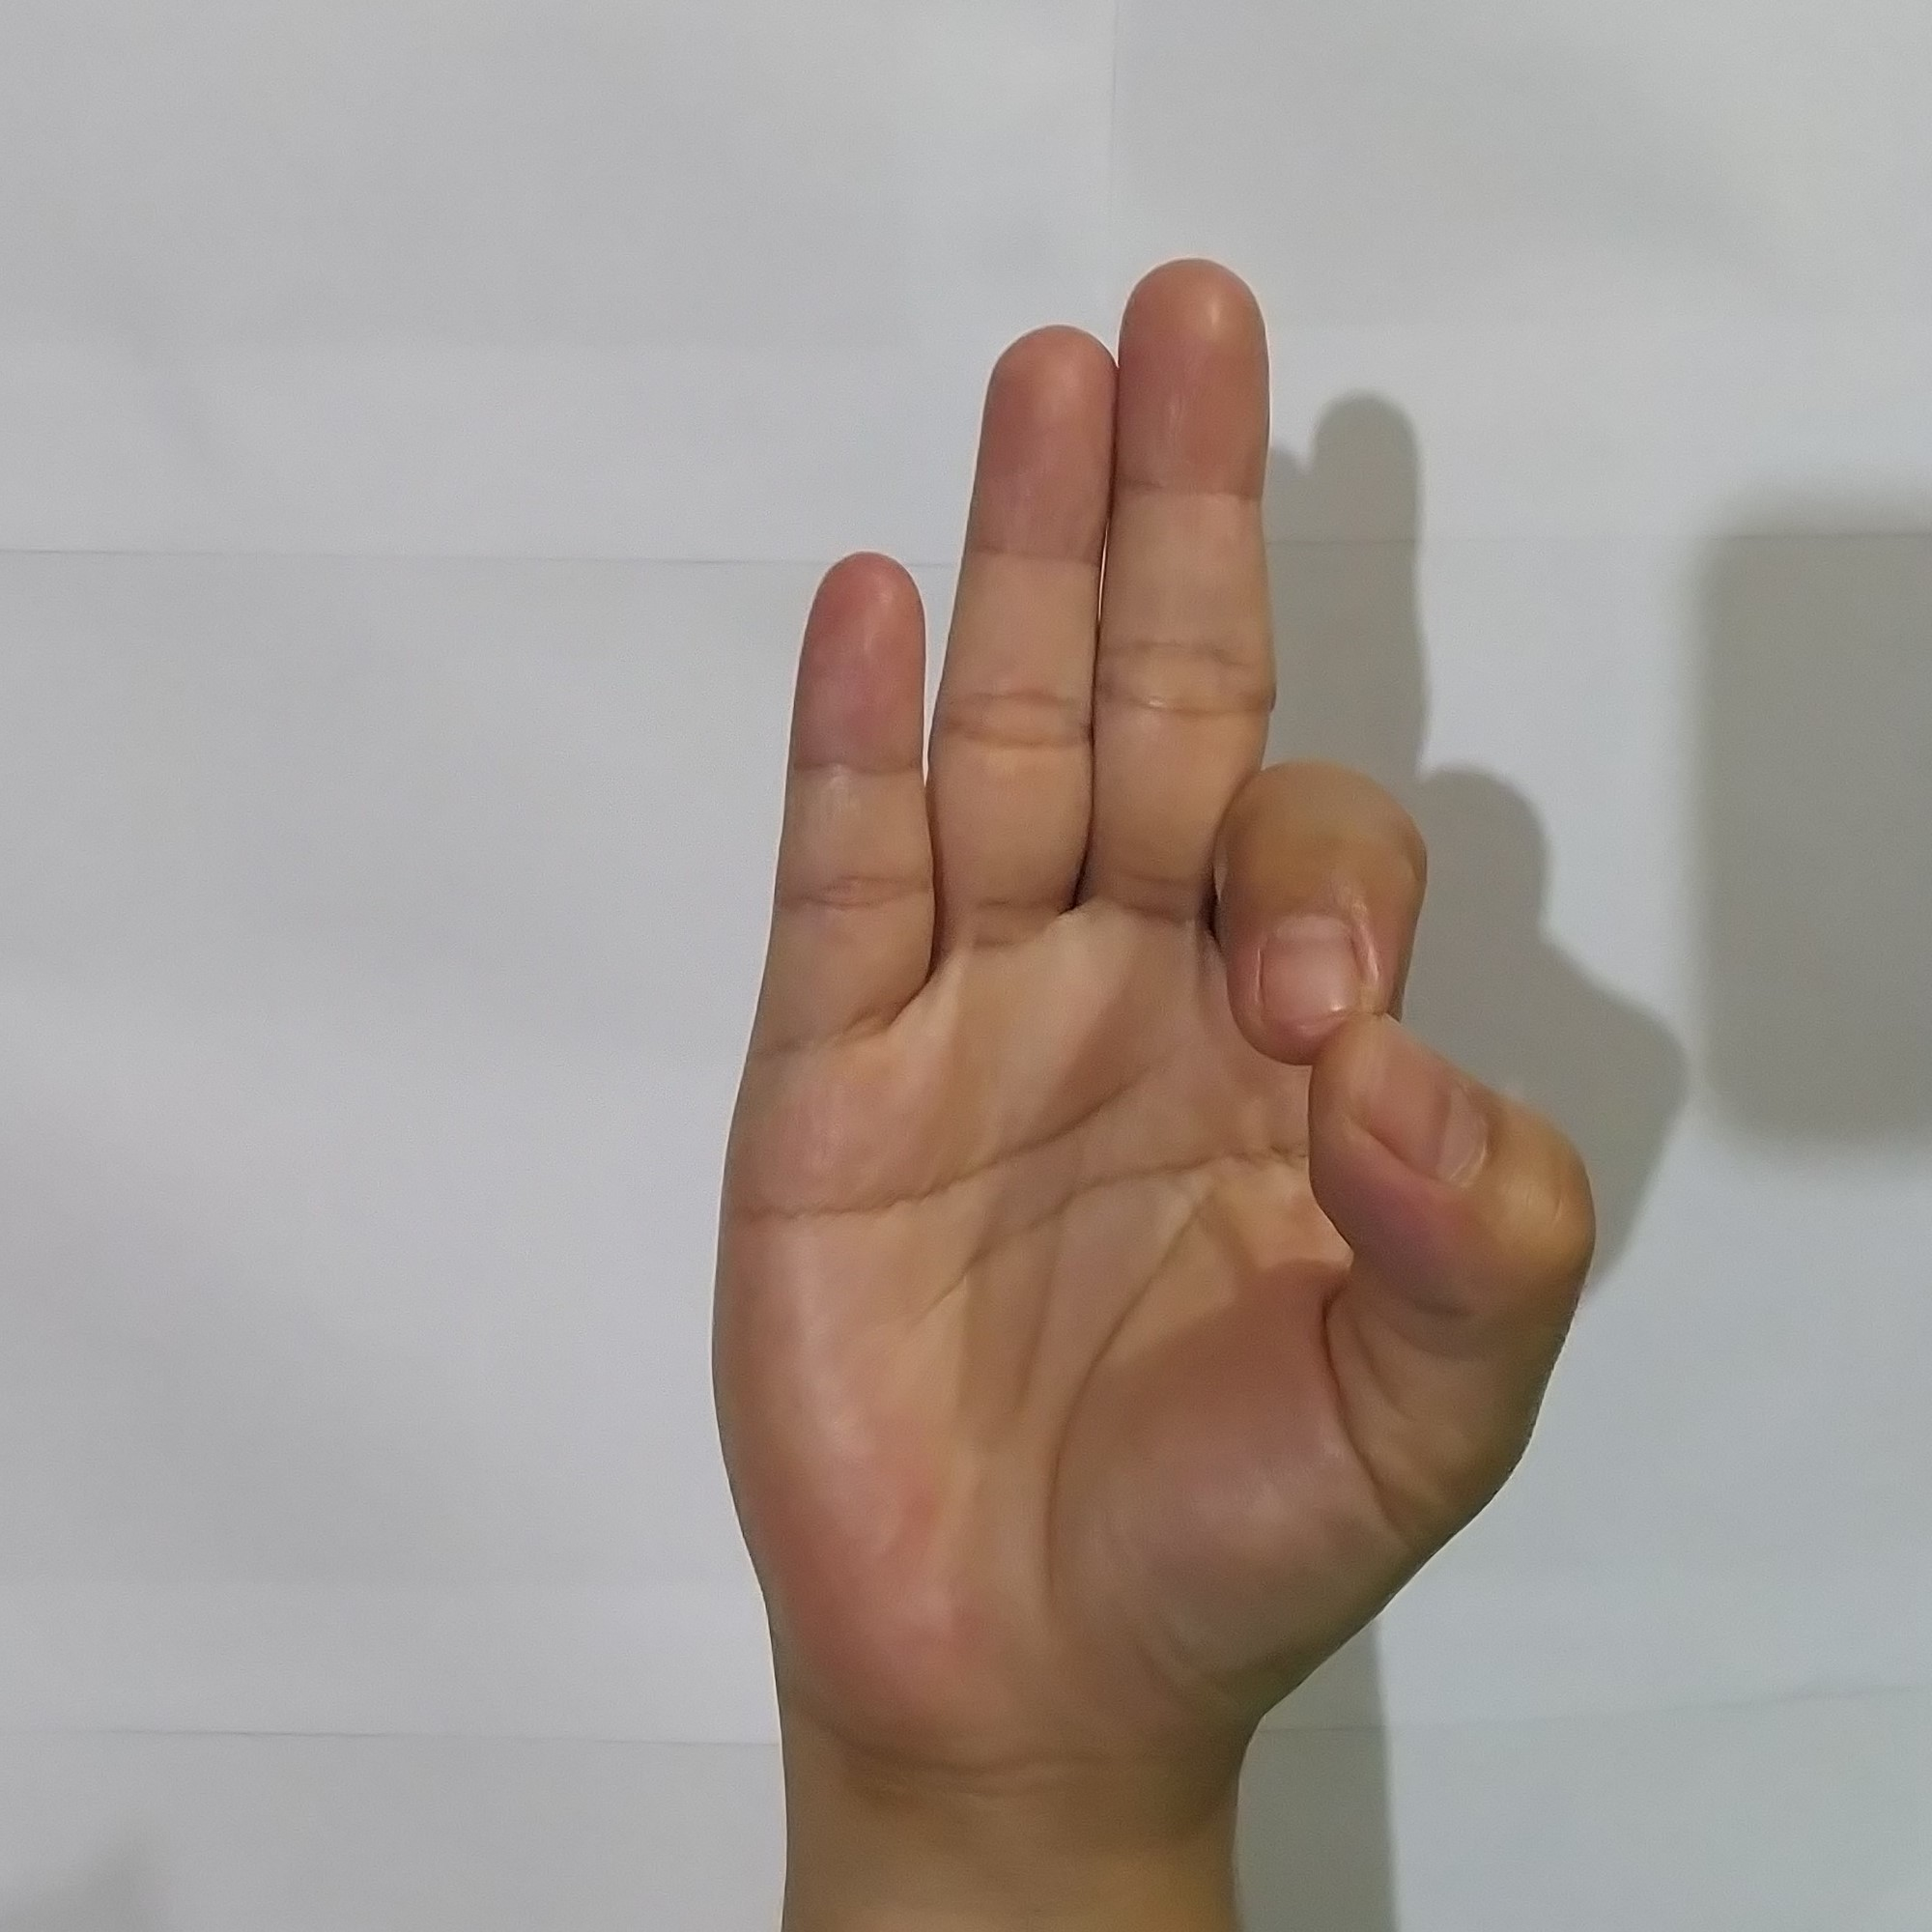F: (678, 235, 1622, 1764)
